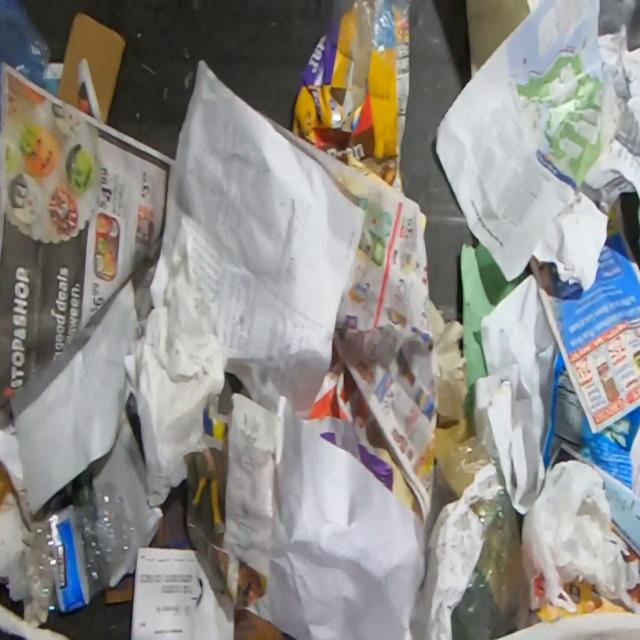cardboard: (291, 10, 411, 193), (56, 11, 127, 125)
rigid_plastic: (5, 480, 136, 616)
soft_plastic: (425, 424, 539, 639), (520, 459, 640, 616), (0, 0, 53, 91), (352, 0, 412, 56)
